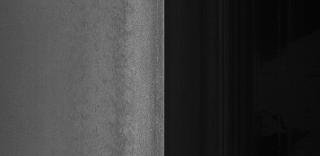silk spot: (107, 54, 145, 104)
